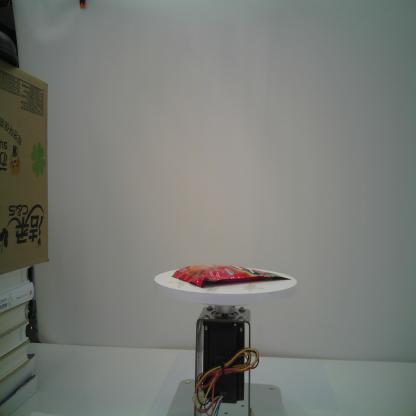Candy: (172, 264, 292, 288)
